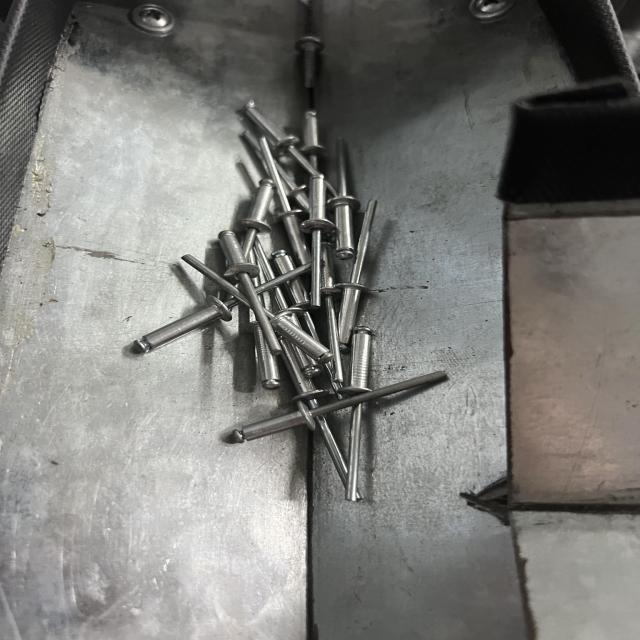rivet: (234, 370, 452, 455), (217, 229, 283, 356)
